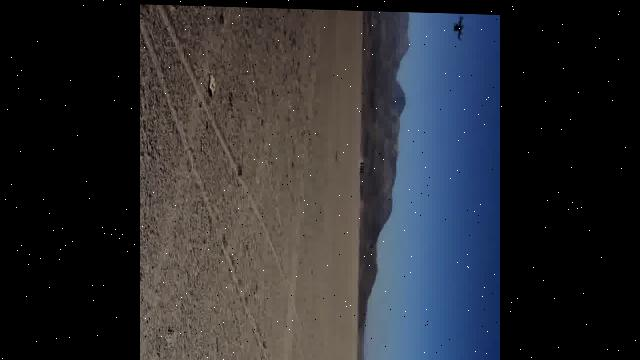drone: (451, 11, 467, 40)
